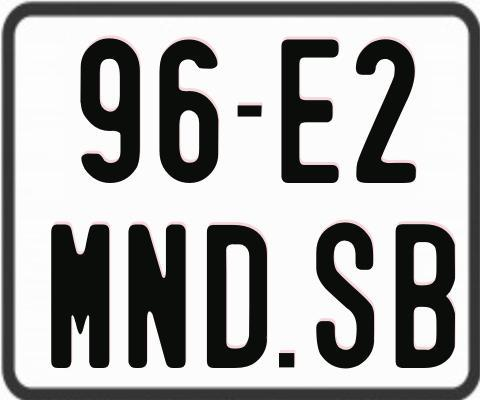2: (354, 37, 420, 183)
6: (159, 39, 218, 183)
9: (80, 36, 144, 187)
B: (396, 221, 461, 366)
D: (207, 222, 273, 368)
E: (279, 38, 343, 188)
M: (48, 222, 107, 367)
N: (126, 221, 187, 368)
S: (314, 219, 374, 366)
